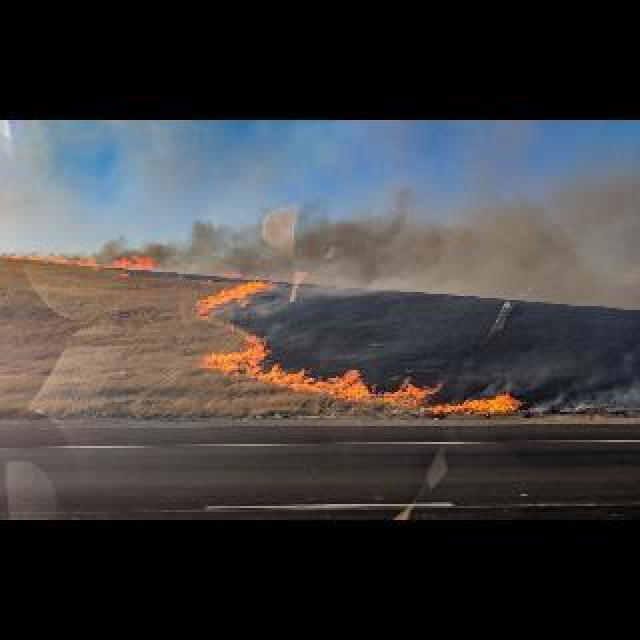Fire: (200, 268, 518, 414), (4, 244, 158, 278)
Smoke: (145, 195, 431, 283)
